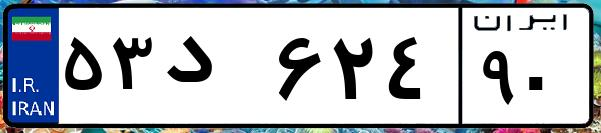0: (525, 38, 570, 115)
2: (330, 28, 385, 110)
3: (110, 28, 158, 98)
4: (385, 28, 445, 110)
5: (57, 26, 110, 100)
6: (270, 28, 330, 110)
9: (475, 38, 525, 113)
د: (158, 20, 270, 120)
